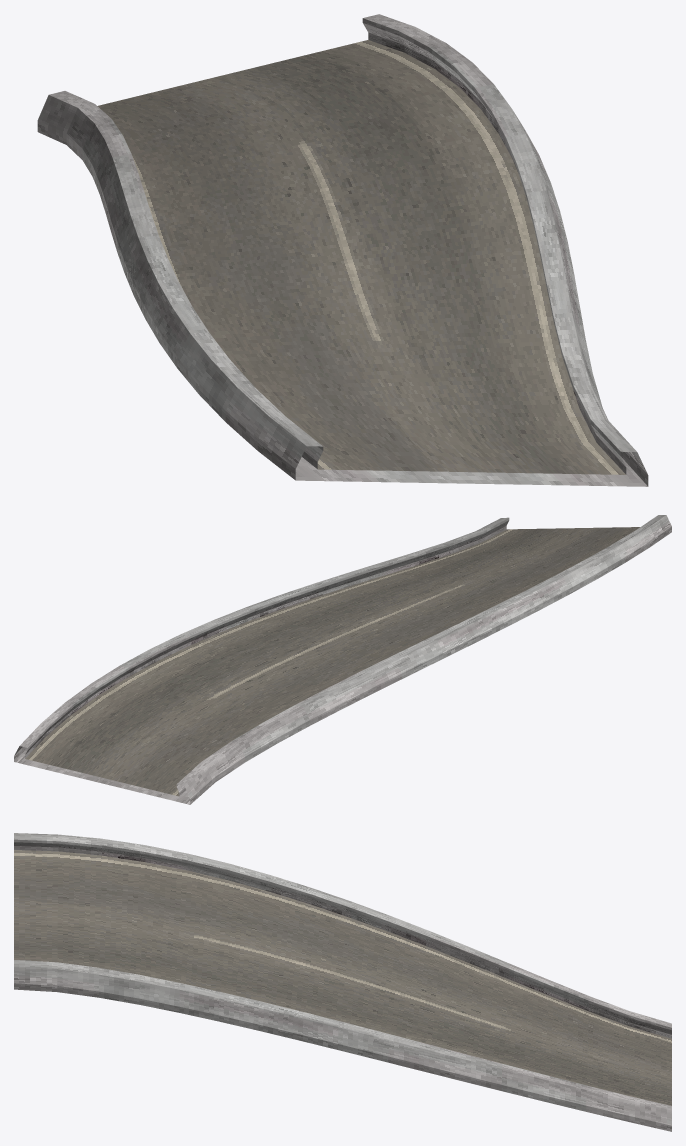
File: road-Chicane-HalfBankedRight-BiSlopeDown-Down1-Right1-Size3.glb
3 views of the same model, one above another, from view 1: azimuth 30°, elevation 25°; view 2: azimuth 150°, elevation 25°; view 3: azimuth 270°, elevation 25° (orthographic). The views are drawn at different scales.
Visible parts, largest first — view 1: road-Chicane-HalfBankedRight-BiSlopeDown-Down1-Right1-Size3; view 2: road-Chicane-HalfBankedRight-BiSlopeDown-Down1-Right1-Size3; view 3: road-Chicane-HalfBankedRight-BiSlopeDown-Down1-Right1-Size3.
Part boxes in pixels (x1,y1,x2,y2): road-Chicane-HalfBankedRight-BiSlopeDown-Down1-Right1-Size3: [37, 14, 648, 486]; road-Chicane-HalfBankedRight-BiSlopeDown-Down1-Right1-Size3: [14, 515, 671, 804]; road-Chicane-HalfBankedRight-BiSlopeDown-Down1-Right1-Size3: [14, 833, 671, 1131].
Size of the model in its own units: 2 by 0.5859 by 3.
Materials: 2 (2 with a texture image).
